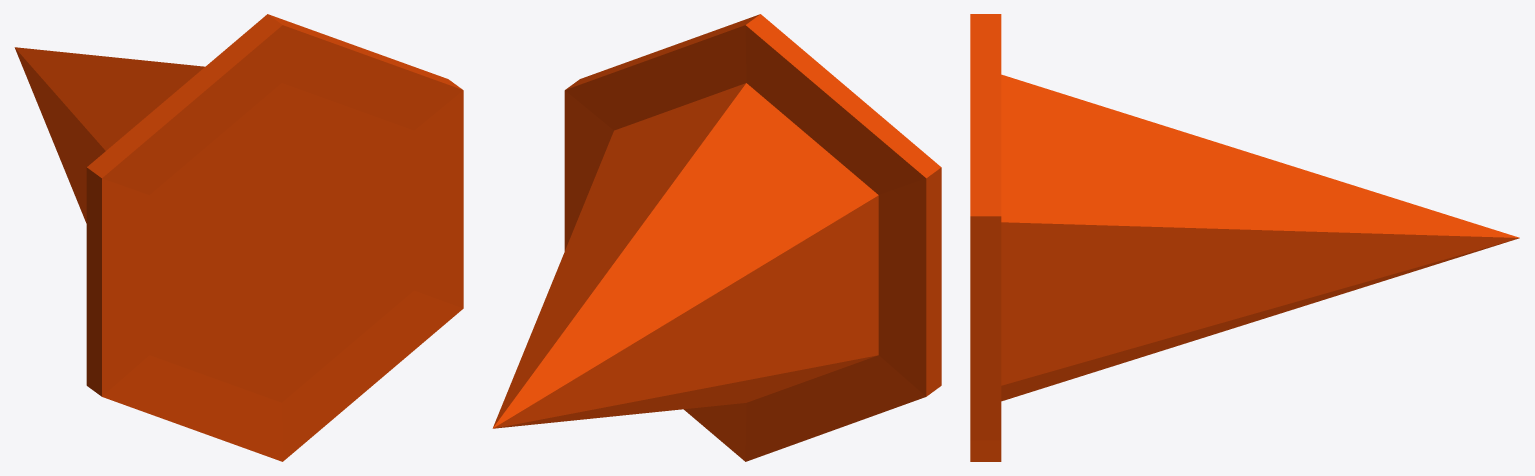
Rendered from sign-cone.obj.
The picture shows the model from 3 angles, left to right: view 1: azimuth 30°, elevation 25°; view 2: azimuth 150°, elevation 25°; view 3: azimuth 270°, elevation 25°; orthographic projection. The views are drawn at different scales.
Parts seen in each view (by area): view 1: sign-cone_Plane.197; view 2: sign-cone_Plane.197; view 3: sign-cone_Plane.197.
Part boxes in pixels (left/top/right/bottom): sign-cone_Plane.197: left=14, top=14, right=463, bottom=461; sign-cone_Plane.197: left=492, top=14, right=941, bottom=461; sign-cone_Plane.197: left=970, top=14, right=1519, bottom=461.
Size of the model in its own units: 0.6973 by 0.8052 by 0.8961.
